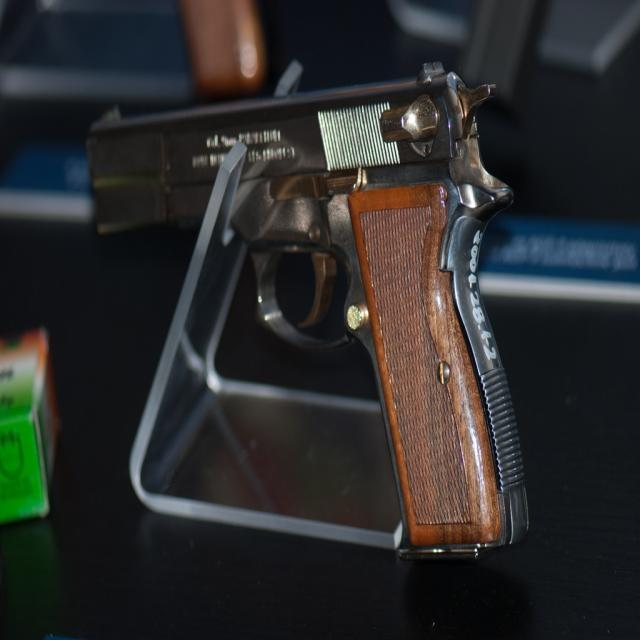Gun: (88, 64, 528, 550)
